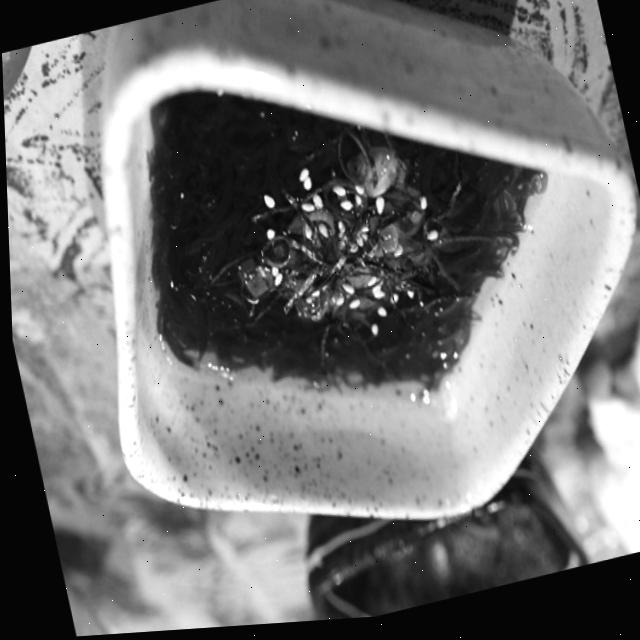蔬菜料理: (18, 0, 640, 606)
